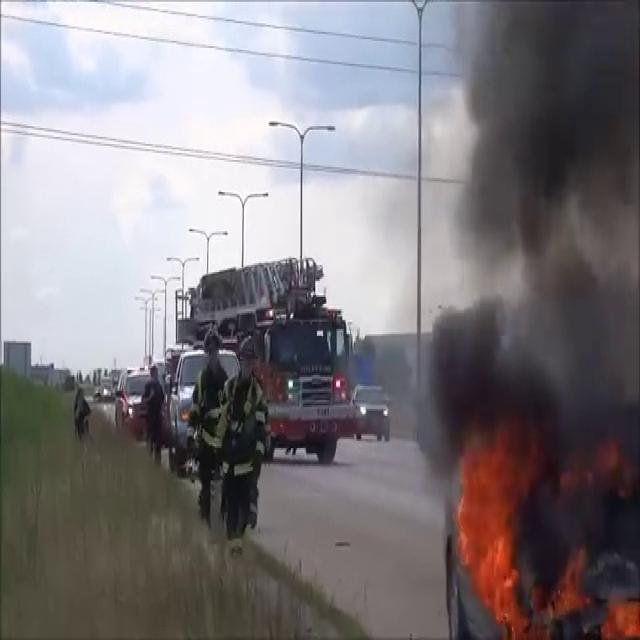Fire: (449, 441, 534, 635)
Smoke: (419, 0, 640, 540)
